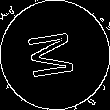M_E: (26, 28, 84, 82)
